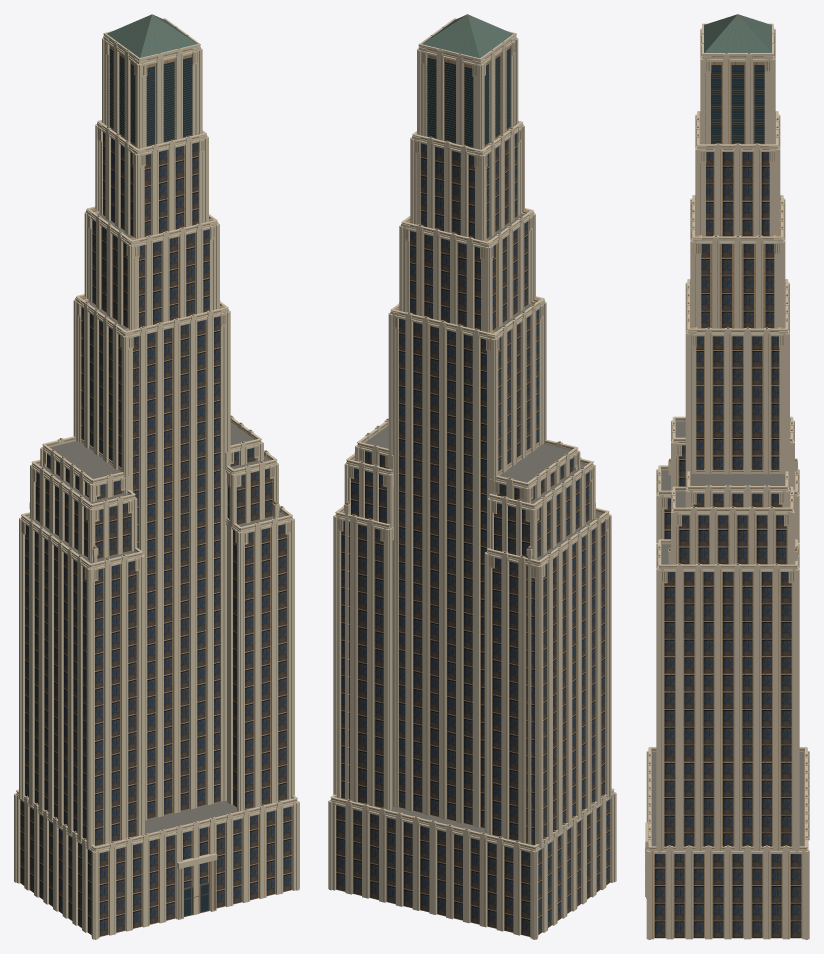
Rendered from lind.glb.
The picture shows the model from 3 angles, left to right: view 1: azimuth 30°, elevation 25°; view 2: azimuth 150°, elevation 25°; view 3: azimuth 270°, elevation 25°; orthographic projection.
Visible parts, largest first — view 1: trim, bay, stone, glass, dark, bronze, roof; view 2: trim, bay, stone, glass, dark, roof, bronze; view 3: trim, bay, stone, dark, glass, roof, bronze.
Part boxes in pixels (x1,y1,x2,y2): trim: (14, 14, 299, 939); bay: (20, 132, 291, 936); stone: (17, 26, 296, 938); glass: (109, 48, 208, 916); dark: (28, 214, 287, 846); bronze: (109, 15, 209, 916); roof: (107, 14, 196, 57); trim: (328, 14, 616, 939); bay: (336, 133, 609, 936); stone: (331, 26, 613, 936); glass: (427, 49, 510, 146); dark: (340, 215, 601, 845); roof: (422, 14, 512, 58); bronze: (427, 15, 510, 146); trim: (645, 14, 809, 939); bay: (655, 149, 801, 937); stone: (645, 33, 808, 938); dark: (652, 236, 804, 846); glass: (711, 65, 764, 143); roof: (704, 14, 771, 52); bronze: (704, 15, 770, 142).
Size of the model in its own units: 45.8 by 184 by 31.25.
Materials: 7 (2 with a texture image).
